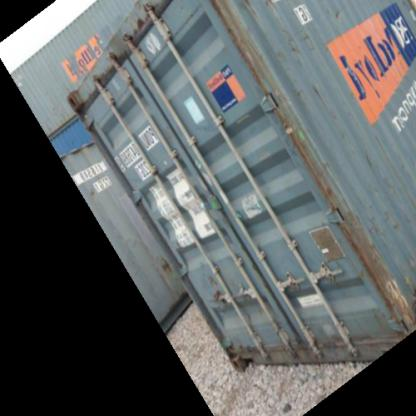Damage: (278, 16, 315, 60), (379, 198, 401, 240), (350, 258, 374, 292), (310, 74, 330, 111), (360, 140, 380, 176), (154, 255, 178, 279), (202, 265, 222, 293), (330, 0, 350, 28)
